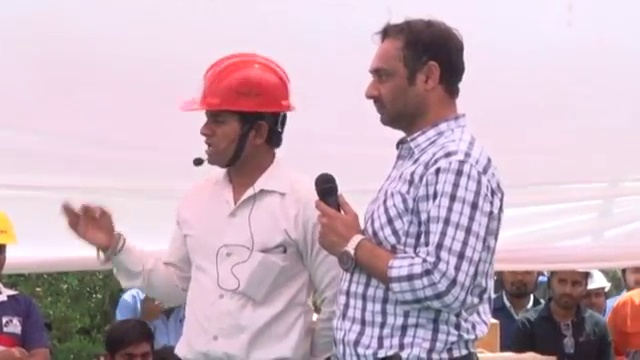helmet: (176, 50, 294, 117), (0, 209, 18, 246), (585, 270, 612, 294)
helmet_off: (365, 23, 467, 130), (545, 268, 596, 314), (105, 318, 155, 360), (502, 266, 540, 301), (616, 262, 640, 293)
helmet_on: (176, 52, 291, 170), (0, 211, 19, 294), (583, 270, 611, 316)
person: (62, 36, 343, 360), (314, 15, 504, 360), (521, 271, 614, 356), (0, 211, 52, 360), (488, 262, 547, 353), (611, 265, 639, 360)
